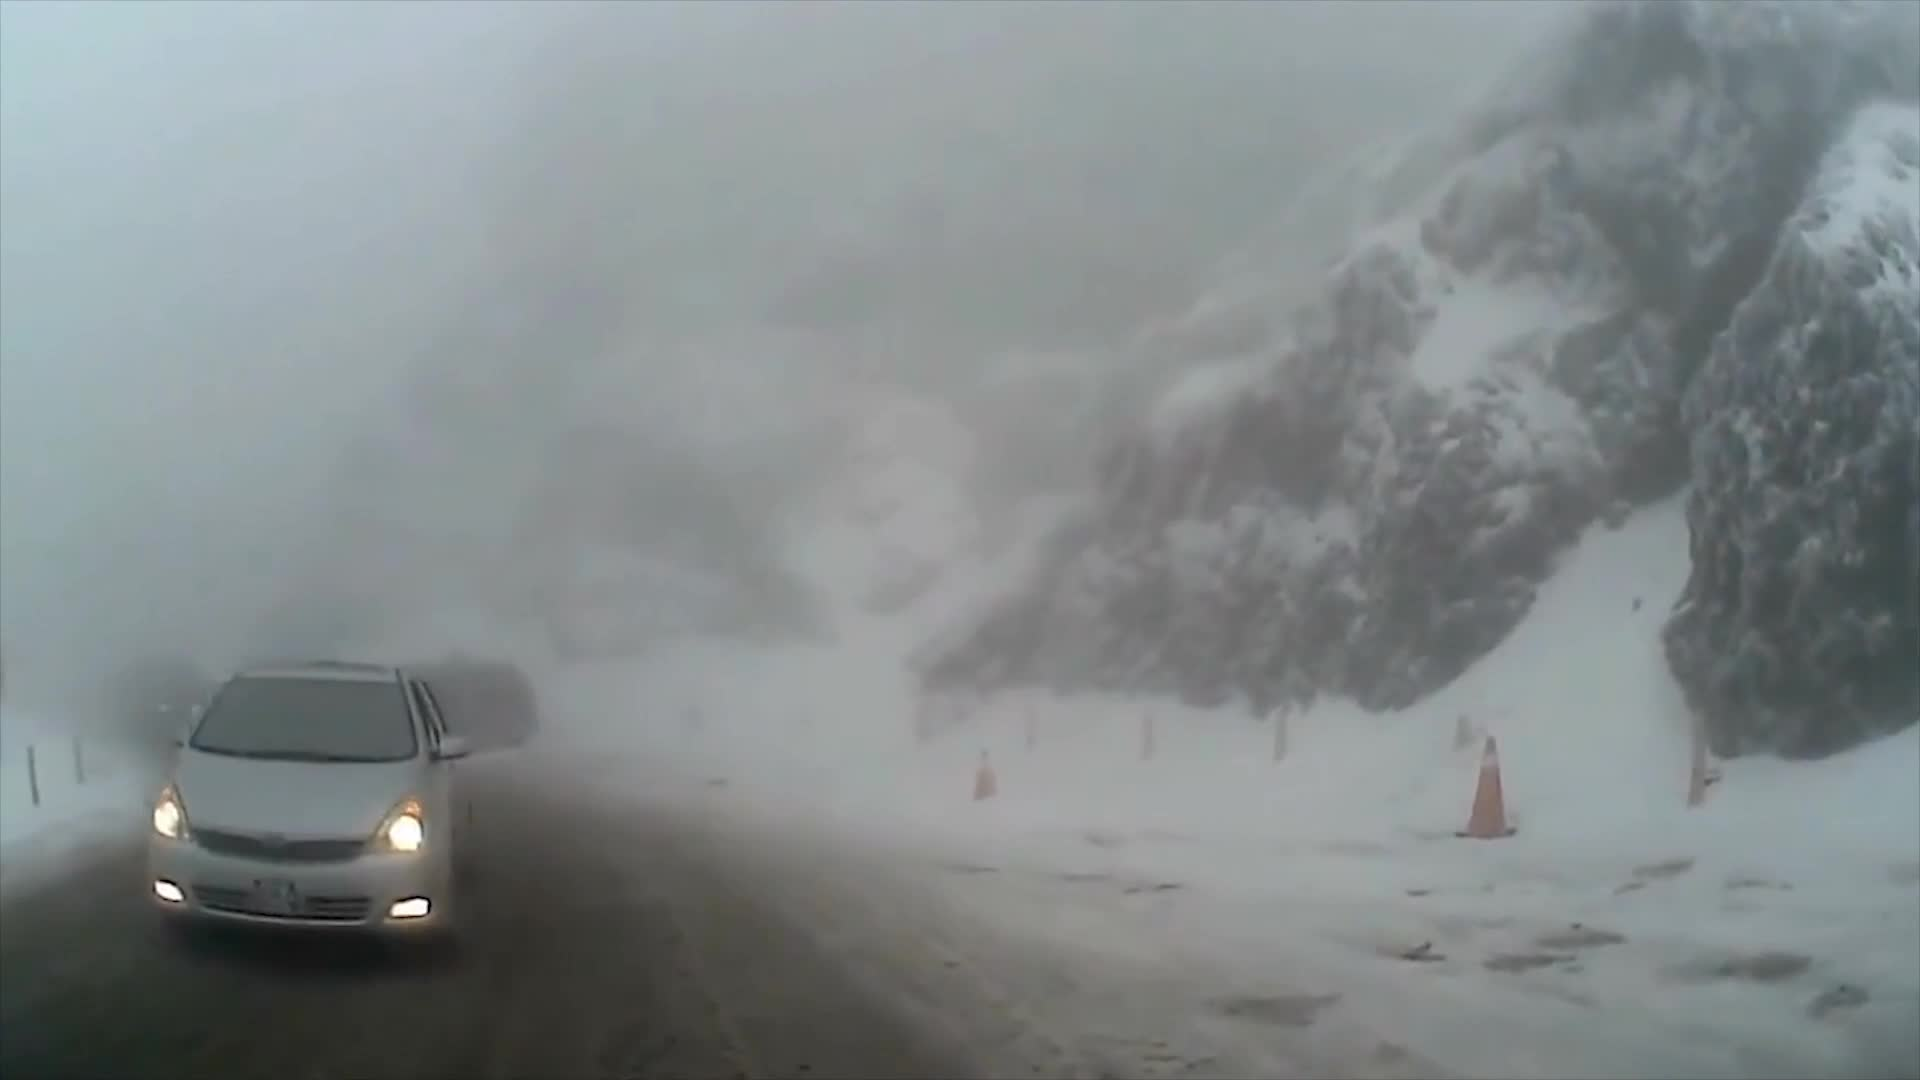vehicle: (142, 655, 477, 963)
